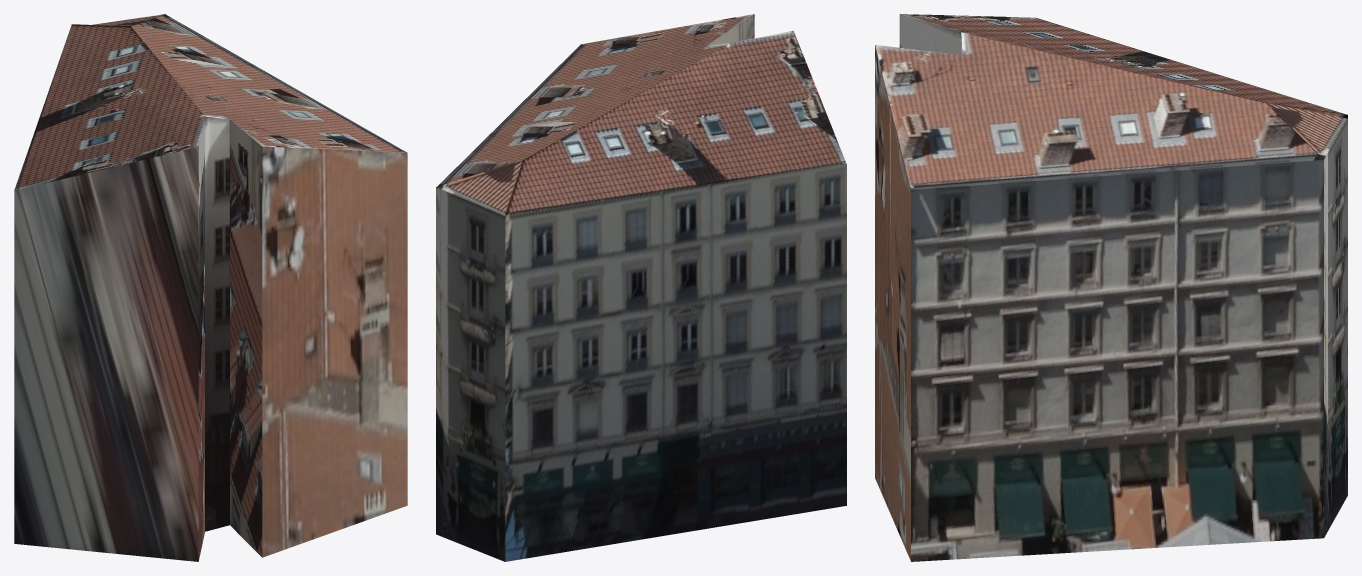
The picture shows the model from 3 angles, left to right: view 1: azimuth 30°, elevation 25°; view 2: azimuth 150°, elevation 25°; view 3: azimuth 270°, elevation 25°; orthographic projection. The views are drawn at different scales.
Parts seen in each view (by area): view 1: Z_UP; view 2: Z_UP; view 3: Z_UP.
Part boxes in pixels (x1=…): Z_UP: x1=14, y1=14, x2=407, y2=561; Z_UP: x1=436, y1=14, x2=846, y2=561; Z_UP: x1=875, y1=14, x2=1347, y2=561.
Size of the model in its own units: 18.88 by 22.4 by 21.93.
2 materials, 1 textured.
